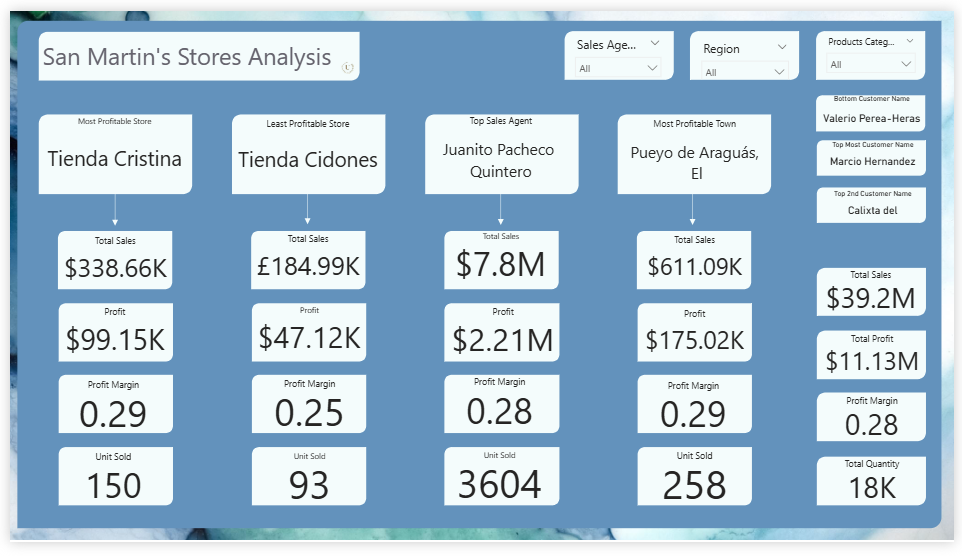

This screenshot's page, from the dashboard's own definition file:
{"tool":"powerbi","page":{"name":"Duplicate of Page 2","canvas":[1280,720],"ordinal":4},"visuals":[{"type":"textbox","box":[39.8,33.8,427.1,59.1],"z":0},{"type":"slicer","fields":{"Values":["Products.Products Category"]},"box":[1096.7,29,141.2,63.9],"z":1000},{"type":"slicer","fields":{"Values":["Locations.Region"]},"box":[927.8,33.8,138.7,59.1],"z":2000},{"type":"slicer","fields":{"Values":["Sales Agents.Sales Agent Name"]},"box":[756.4,29,137.5,63.9],"z":3000},{"type":"card","title":"Total Sales","fields":{"Values":["Sales Tiendas San Martin Janu#4._total sales"]},"box":[1096.7,349.9,141.2,61.5],"z":4000},{"type":"card","title":"Total Profit","fields":{"Values":["Sales Tiendas San Martin Janu#4._total profit"]},"box":[1097.9,435.5,141.2,61.5],"z":5000},{"type":"card","title":"Profit Margin","fields":{"Values":["Sales Tiendas San Martin Janu#4._profit margin"]},"box":[1099.1,520,141.2,61.5],"z":6000},{"type":"card","title":"Total Quantity","fields":{"Values":["Sales Tiendas San Martin Janu#4._total quantity"]},"box":[1097.9,605.6,141.2,63.9],"z":7000},{"type":"card","title":"Most Profitable Store","fields":{"Values":["Stores._top store name"]},"box":[42.2,142.4,199.1,102.5],"z":8000},{"type":"card","title":"Total Sales","fields":{"Values":["Stores._top store total sales"]},"box":[65.1,302.8,156.8,72.4],"z":9000},{"type":"card","title":"Profit","fields":{"Values":["Stores._top store profit"]},"box":[66.4,399.3,152,73.6],"z":10000},{"type":"card","title":"Profit Margin","fields":{"Values":["Stores._top store profit margin"]},"box":[68.4,497.6,144.8,72.4],"z":11000},{"type":"card","title":"Unit Sold","fields":{"Values":["Stores._top store unit sold"]},"box":[68.4,596.6,144.8,72.4],"z":12000},{"type":"card","title":"Total Sales","fields":{"Values":["Stores._bottom store total sales"]},"box":[329.4,299.2,150.8,74.8],"z":13000},{"type":"card","title":"Profit","fields":{"Values":["Stores._bottom store profit"]},"box":[329.4,398.1,154.4,72.4],"z":14000},{"type":"card","title":"Profit Margin","fields":{"Values":["Stores._bottom store profit margin"]},"box":[334.2,497,144.8,72.4],"z":15000},{"type":"card","title":"Unit Sold","fields":{"Values":["Stores._bottom store qty"]},"box":[334.2,596,144.8,72.4],"z":16000},{"type":"card","title":"Top Sales Agent","fields":{"Values":["Sales Agents._top agent name"]},"box":[566,140.2,199.1,102.5],"z":17000},{"type":"card","title":"Total Sales","fields":{"Values":["Sales Agents._agent total sales"]},"box":[593.8,298.2,144.8,72.4],"z":18000},{"type":"card","title":"Profit","fields":{"Values":["Sales Agents._agent profit"]},"box":[592.4,399.3,154.4,72.4],"z":19000},{"type":"card","title":"Profit Margin","fields":{"Values":["Sales Agents._agent profit margin"]},"box":[592.2,495.4,144.8,72.4],"z":20000},{"type":"card","title":"Unit Sold","fields":{"Values":["Sales Agents._agent quantity"]},"box":[592.2,594.4,144.8,72.4],"z":21000},{"type":"card","title":"Most Profitable Town","fields":{"Values":["Locations._top town"]},"box":[828.6,144,199.1,102.5],"z":22000},{"type":"card","title":"Total Sales","fields":{"Values":["Locations._top town sales"]},"box":[856.3,302.1,144.8,72.4],"z":23000},{"type":"card","title":"Profit","fields":{"Values":["Locations._top town profit"]},"box":[856.3,401,144.8,72.4],"z":24000},{"type":"card","title":"Profit Margin","fields":{"Values":["Locations._top town profit margin"]},"box":[854.7,499.3,144.8,72.4],"z":25000},{"type":"card","title":"Unit Sold","fields":{"Values":["Locations._top town qty"]},"box":[856.6,594.8,144.8,72.4],"z":26000},{"type":"card","title":"Least Profitable Store","fields":{"Values":["Stores._bottom store name"]},"box":[295.6,143.6,218.4,98.9],"z":27000}]}

Visuals, with their boxes in screenshot pixels (x1, y1, x2, y2), scaled from the page's 1280x720 canvas onto the 962x556 screenshot:
textbox: [30,26,351,72]
slicer - Products.Products Category: [824,22,930,72]
slicer - Locations.Region: [697,26,802,72]
slicer - Sales Agents.Sales Agent Name: [568,22,672,72]
"Total Sales" card: [824,270,930,318]
"Total Profit" card: [825,336,931,384]
"Profit Margin" card: [826,402,932,449]
"Total Quantity" card: [825,468,931,517]
"Most Profitable Store" card: [32,110,181,189]
"Total Sales" card: [49,234,167,290]
"Profit" card: [50,308,164,365]
"Profit Margin" card: [51,384,160,440]
"Unit Sold" card: [51,461,160,517]
"Total Sales" card: [248,231,361,289]
"Profit" card: [248,307,364,363]
"Profit Margin" card: [251,384,360,440]
"Unit Sold" card: [251,460,360,516]
"Top Sales Agent" card: [425,108,575,187]
"Total Sales" card: [446,230,555,286]
"Profit" card: [445,308,561,364]
"Profit Margin" card: [445,383,554,438]
"Unit Sold" card: [445,459,554,515]
"Most Profitable Town" card: [623,111,772,190]
"Total Sales" card: [644,233,752,289]
"Profit" card: [644,310,752,366]
"Profit Margin" card: [642,386,751,441]
"Unit Sold" card: [644,459,753,515]
"Least Profitable Store" card: [222,111,386,187]
